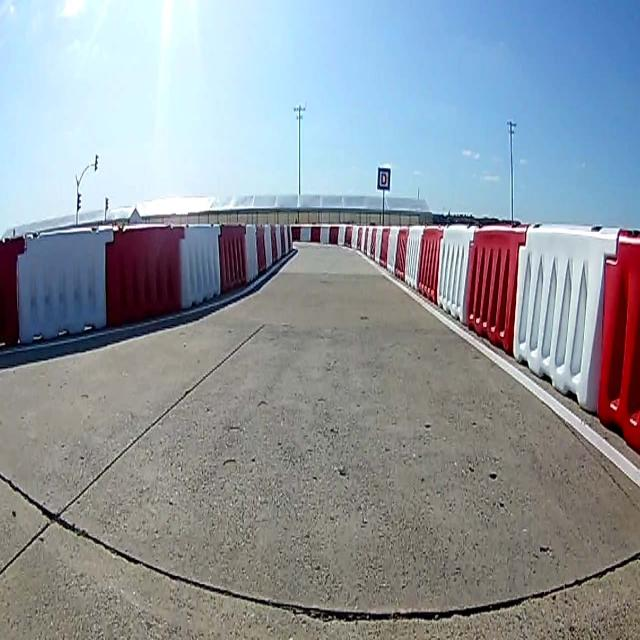durak: (377, 164, 391, 192)
